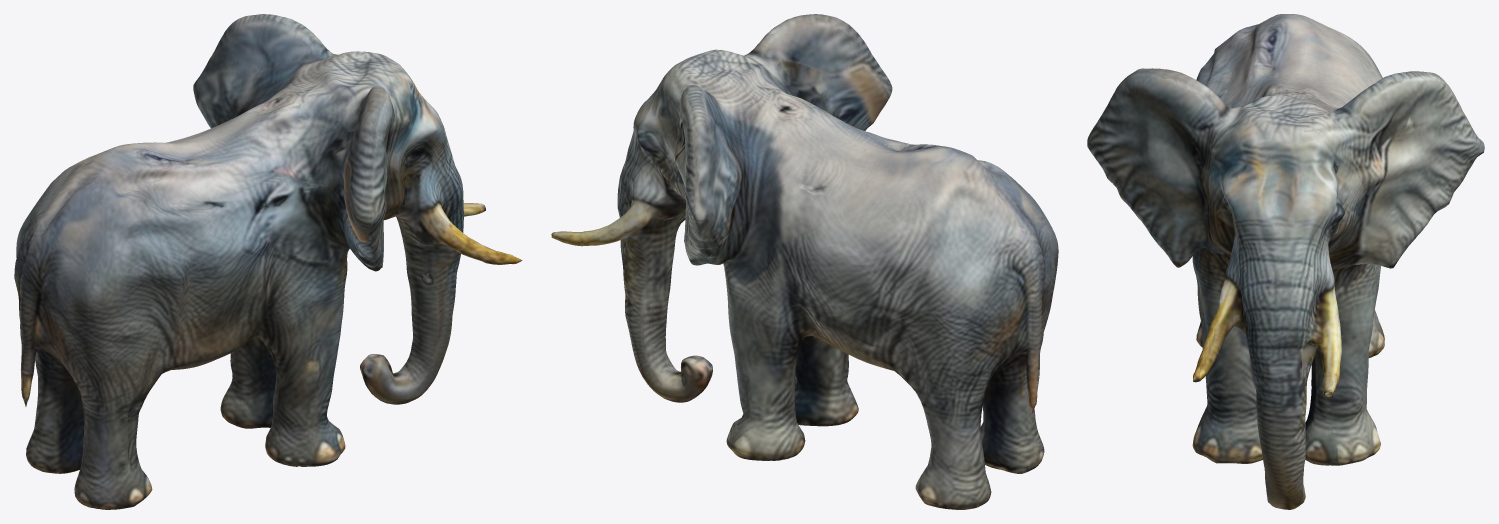
Rendered from elephant.glb.
The picture shows the model from 3 angles, left to right: view 1: azimuth 30°, elevation 25°; view 2: azimuth 150°, elevation 25°; view 3: azimuth 270°, elevation 25°; orthographic projection. The views are drawn at different scales.
Bounding box in the file's own units: 1.2 × 0.8977 × 0.8006.
Materials: 1 (1 with a texture image).
